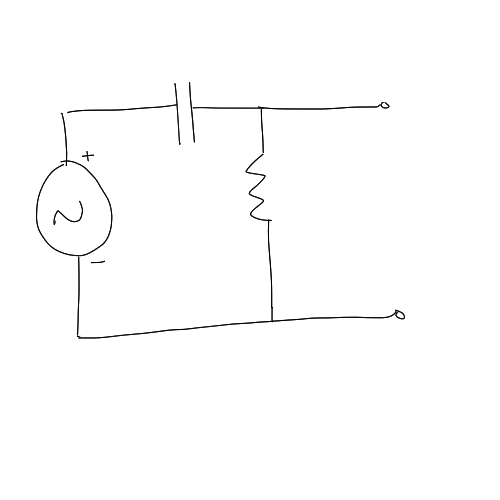acvs: (32, 150, 119, 272)
cap: (171, 76, 202, 149)
probe: (373, 94, 395, 114), (390, 306, 410, 323)
res: (243, 143, 276, 233)
